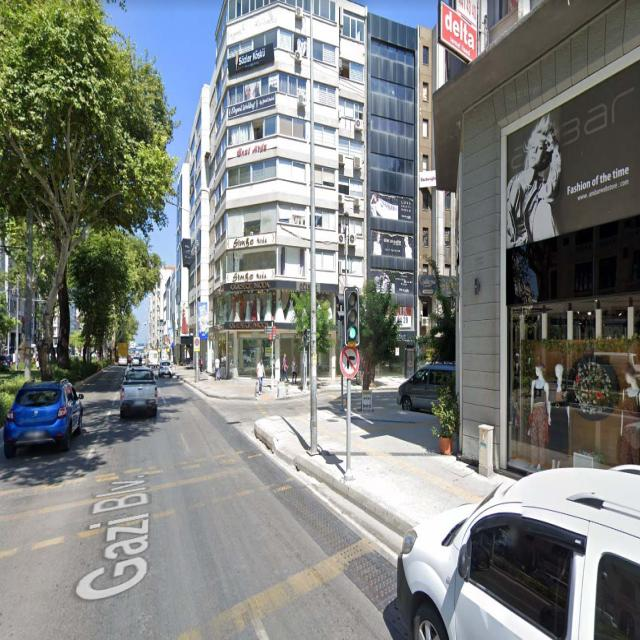sagadonulmez: (341, 347, 358, 379)
yesil: (345, 286, 360, 347)
